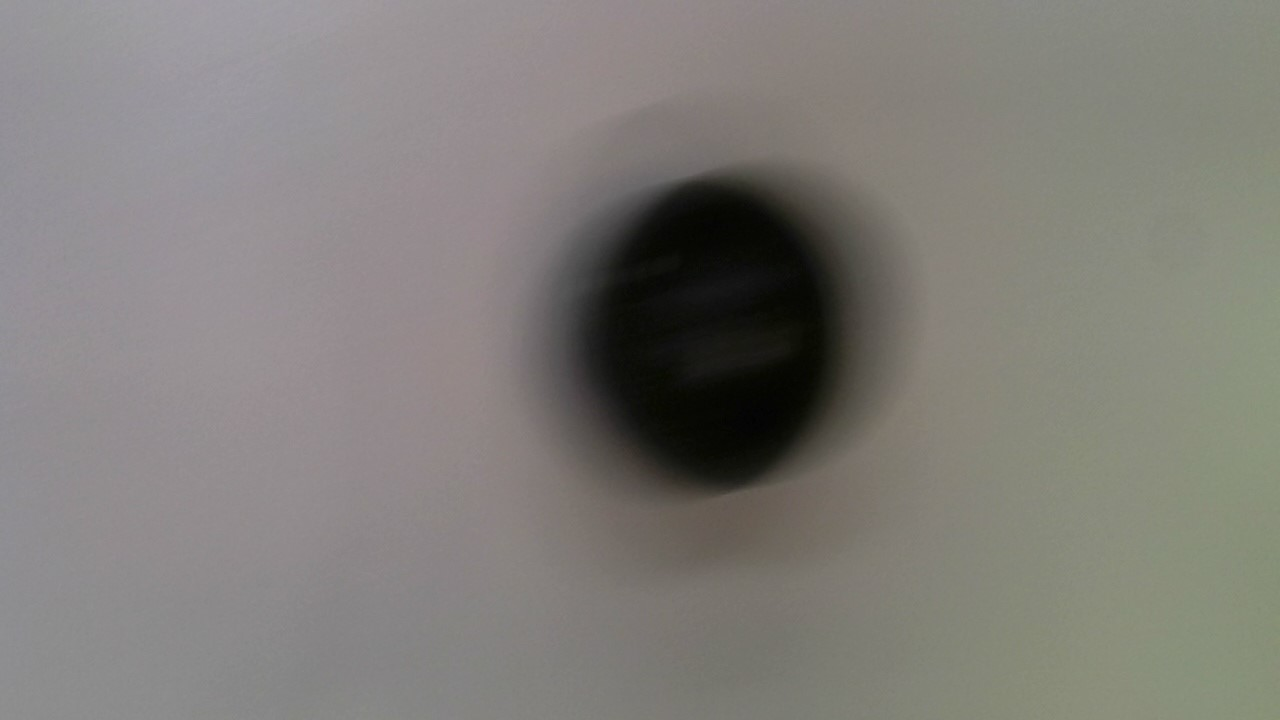black_ball: (553, 161, 863, 501)
